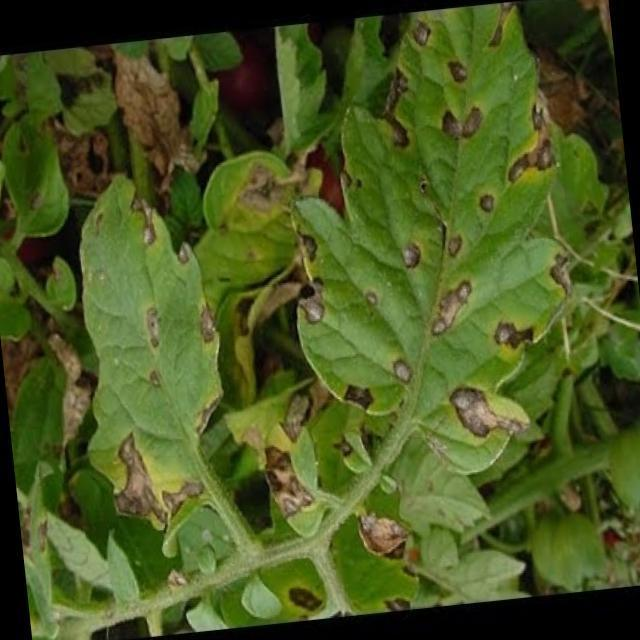Septoria: (276, 6, 564, 388), (115, 200, 218, 398), (437, 378, 531, 452)
